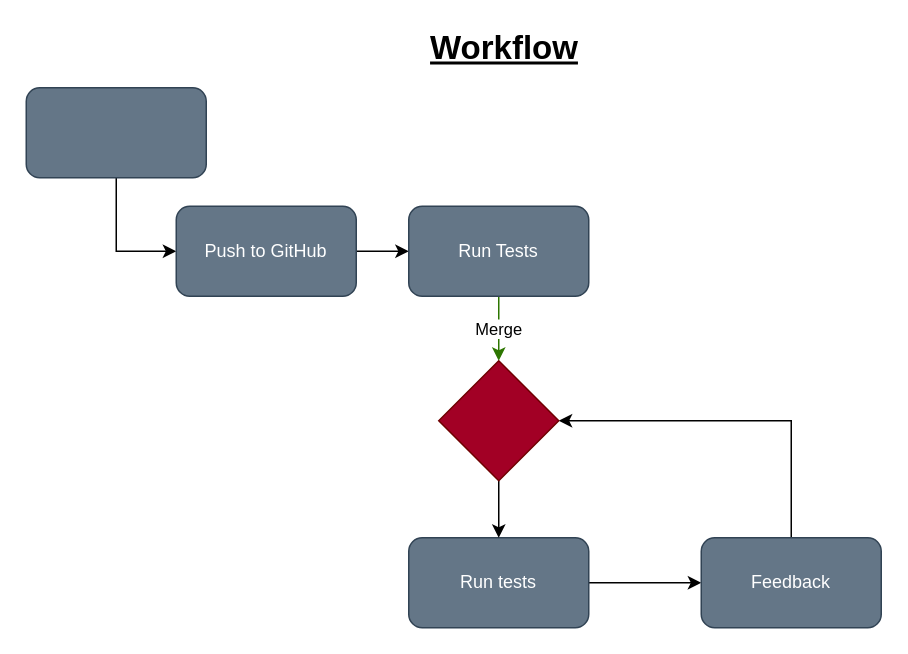
The diagram is 908 pixels wide and 654 high, and some of its shapes have lost their labels. Here are the shapes that lost their labels. From the top down, the centre of each, then its label:
At point 115,132: "Record tests".
At point 498,420: "Cron job".
